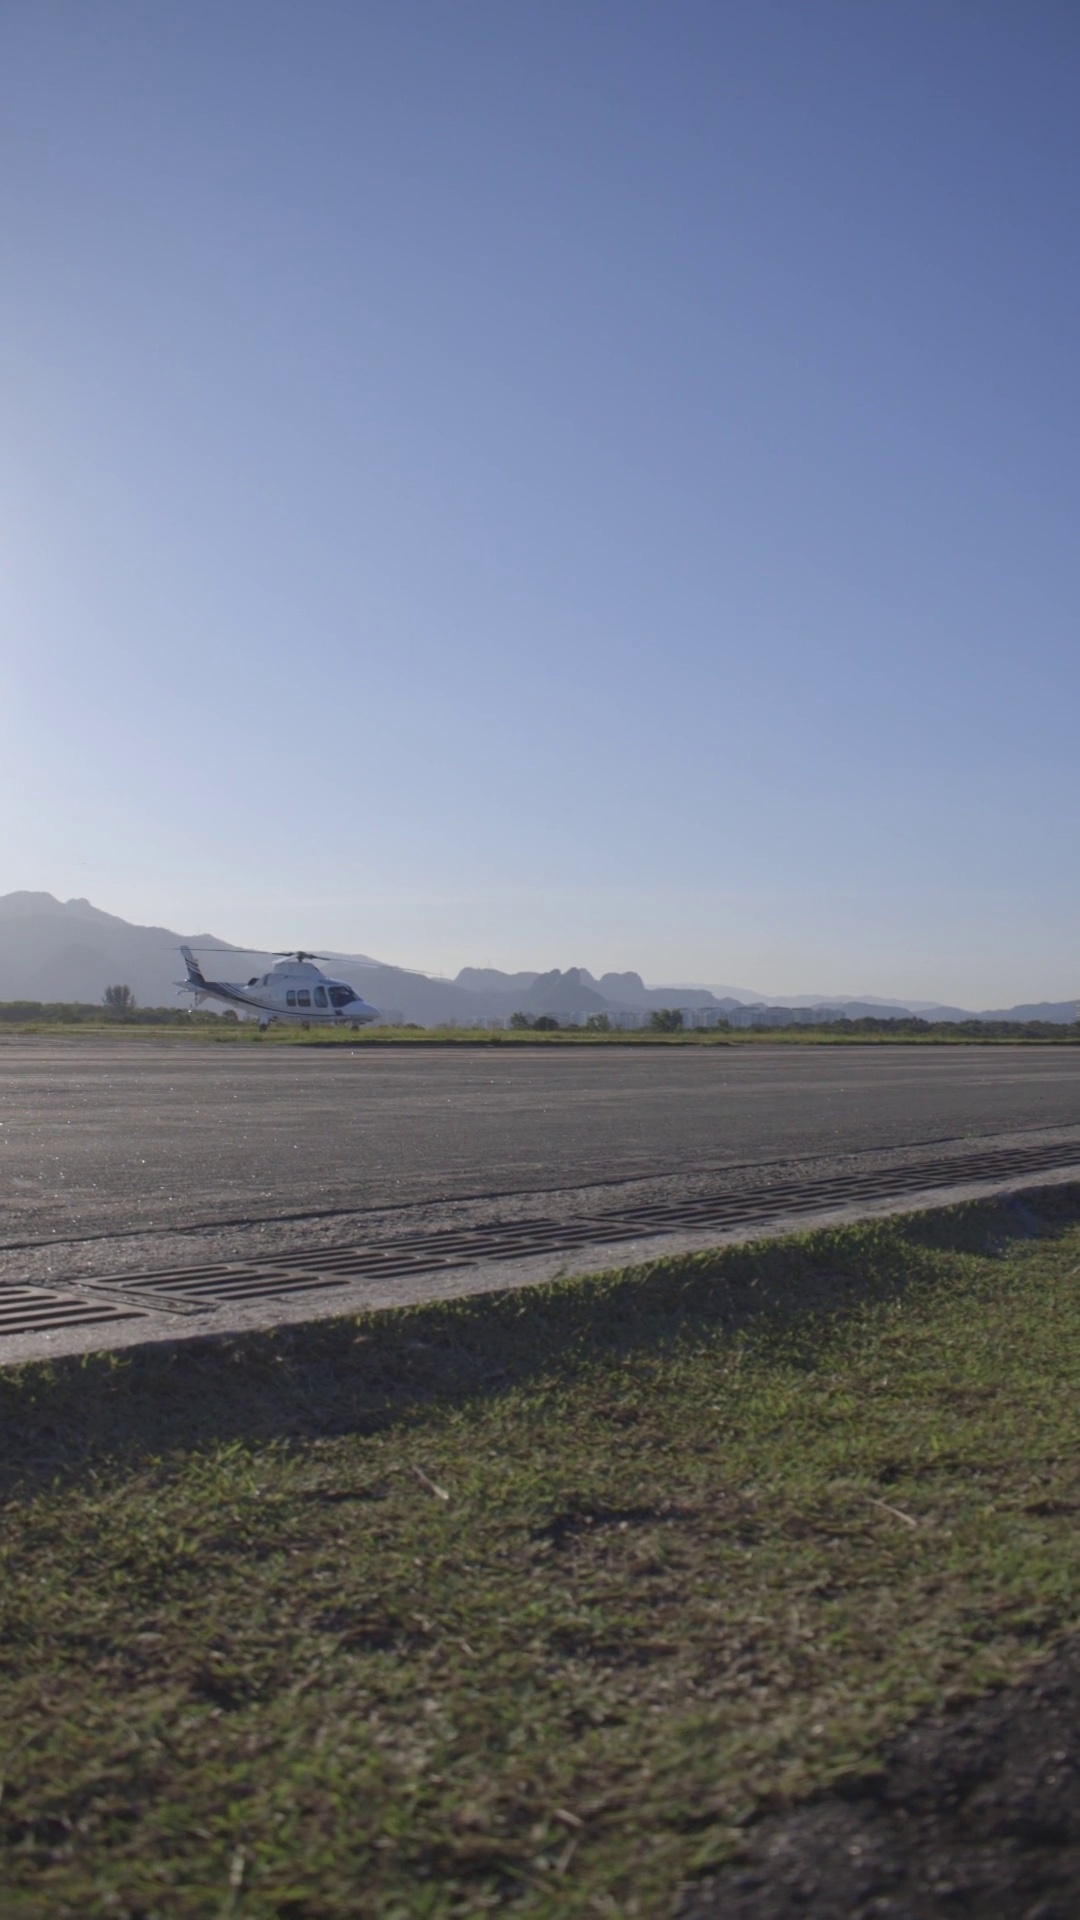heli: (175, 943, 378, 1036)
